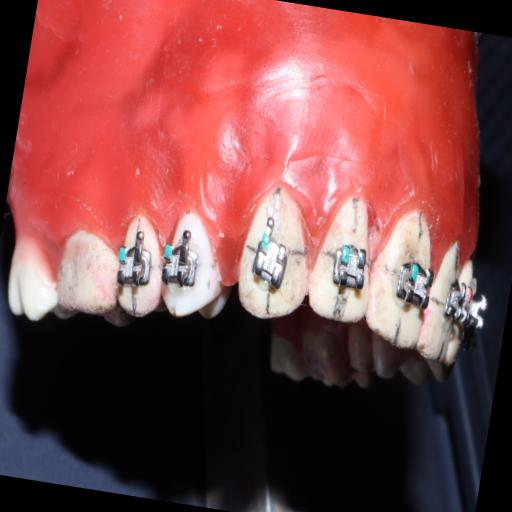incorrect_brace: (301, 180, 386, 328), (248, 228, 294, 290), (326, 238, 374, 292)
